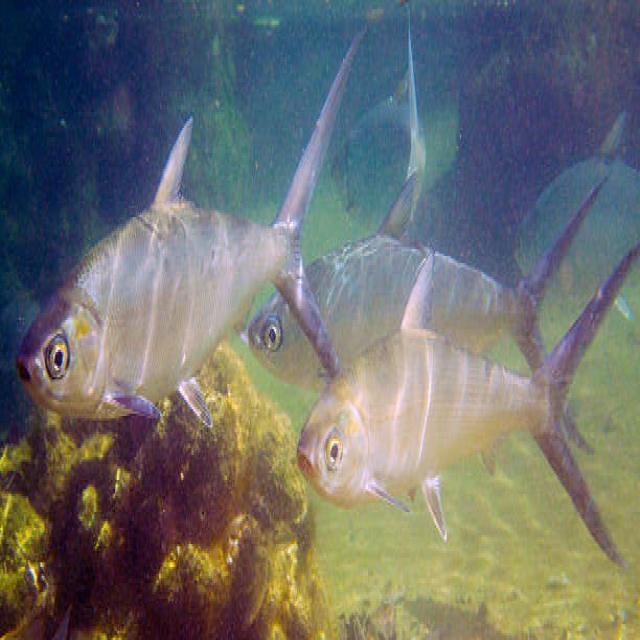Bangus: (20, 18, 359, 413)
